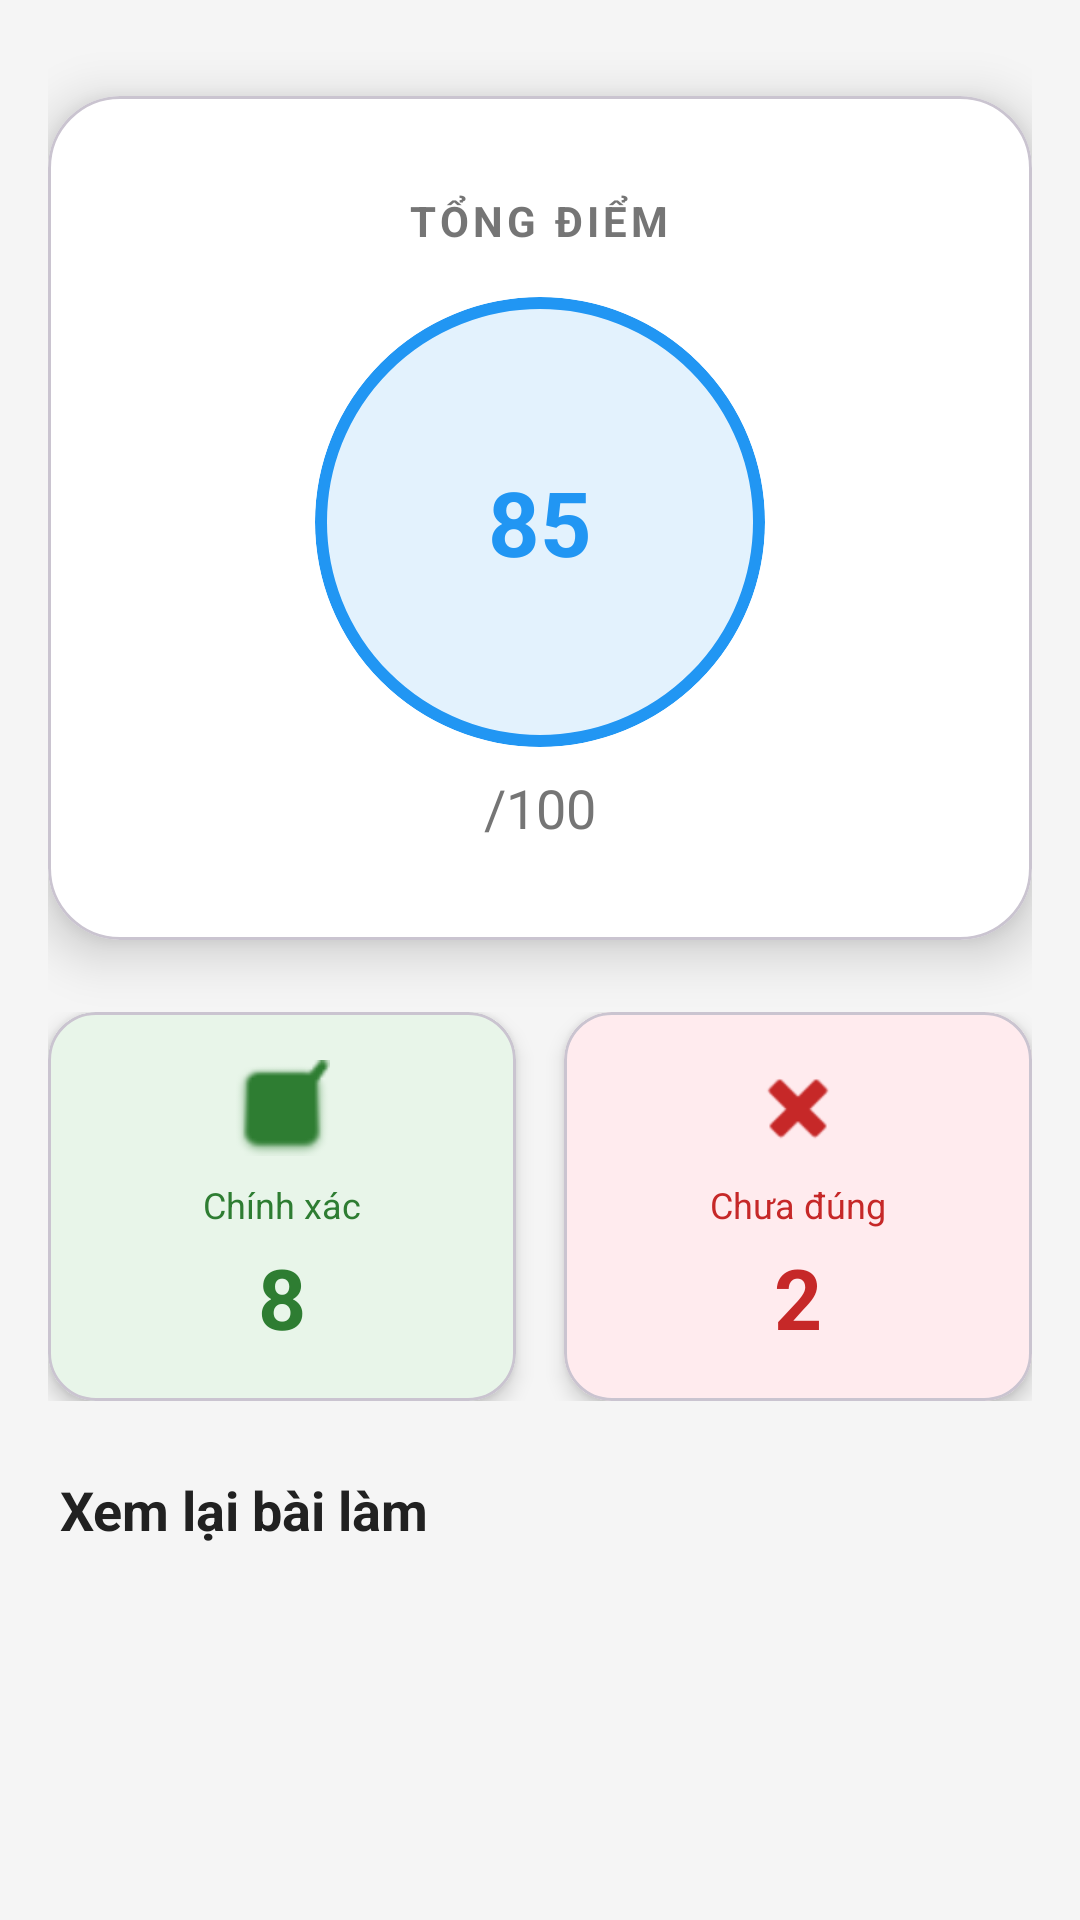

Point at icon controls on the screen. Image size 1080 × 1920, points as point (x, y).
delete: point (798, 1108)
